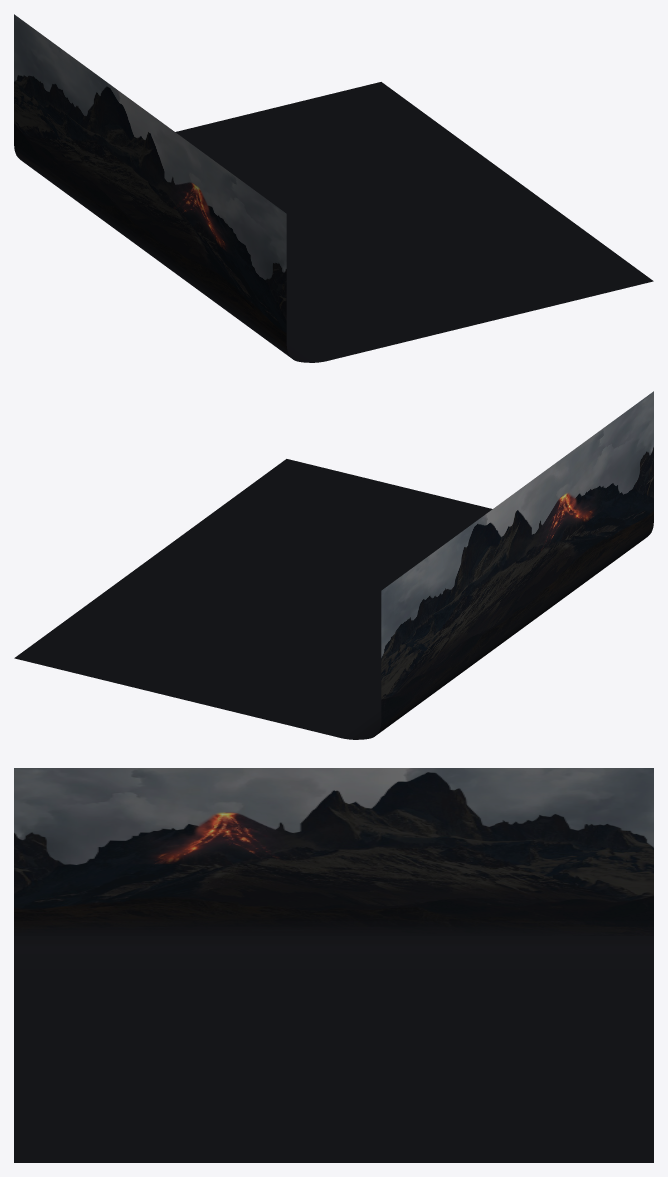
File: Fondo.fbx
3 renders of one model, top to bottom at view 1: azimuth 30°, elevation 25°; view 2: azimuth 150°, elevation 25°; view 3: azimuth 270°, elevation 25°, orthographic. The views are drawn at different scales.
Parts seen in each view (by area): view 1: Plane; view 2: Plane; view 3: Plane.
Boxes of the visible parts, <box> form: Plane: <box>14,14,653,362</box>; Plane: <box>14,391,653,739</box>; Plane: <box>14,768,653,1162</box>.
Bounding box in the file's own units: 67429 × 27588 × 86685.
